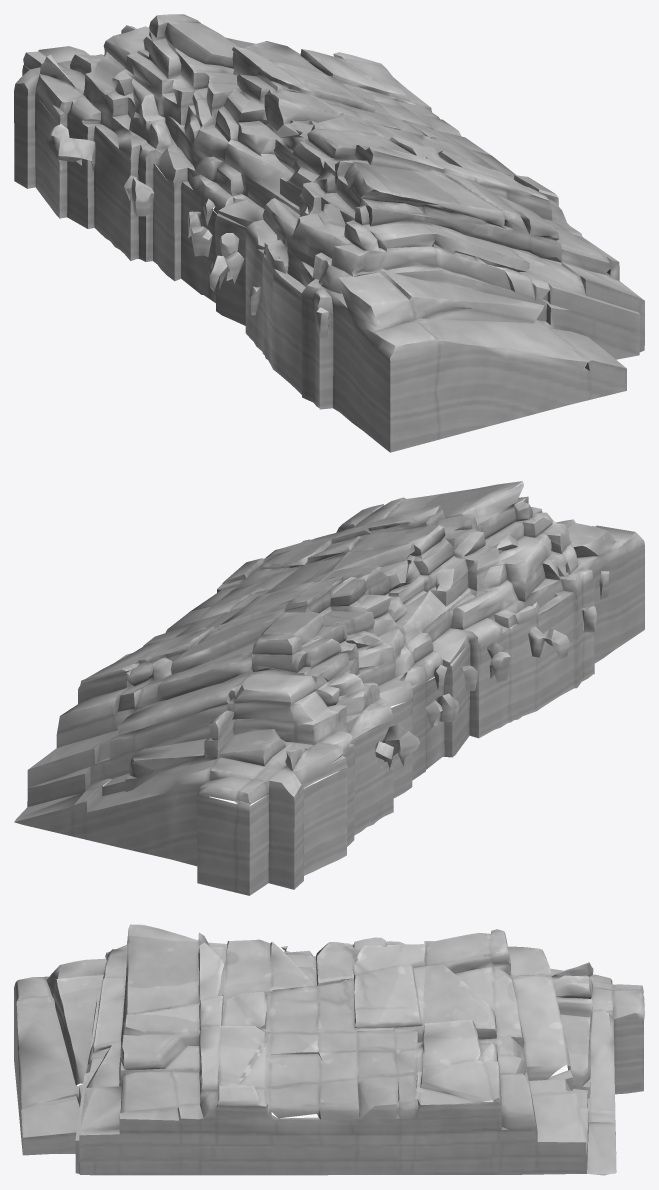
Rendered from sculpted_terrace_04.glb.
3 renders of one model, top to bottom at view 1: azimuth 30°, elevation 25°; view 2: azimuth 150°, elevation 25°; view 3: azimuth 270°, elevation 25°, orthographic. The views are drawn at different scales.
Visible parts, largest first — view 1: sculpted_terrace_04; view 2: sculpted_terrace_04; view 3: sculpted_terrace_04.
Boxes of the visible parts, <box> form: sculpted_terrace_04: <box>14,14,644,452</box>; sculpted_terrace_04: <box>14,481,644,895</box>; sculpted_terrace_04: <box>14,924,644,1175</box>.
Size of the model in its own units: 24.36 by 13.35 by 47.98.
Materials: 1 (1 with a texture image).
